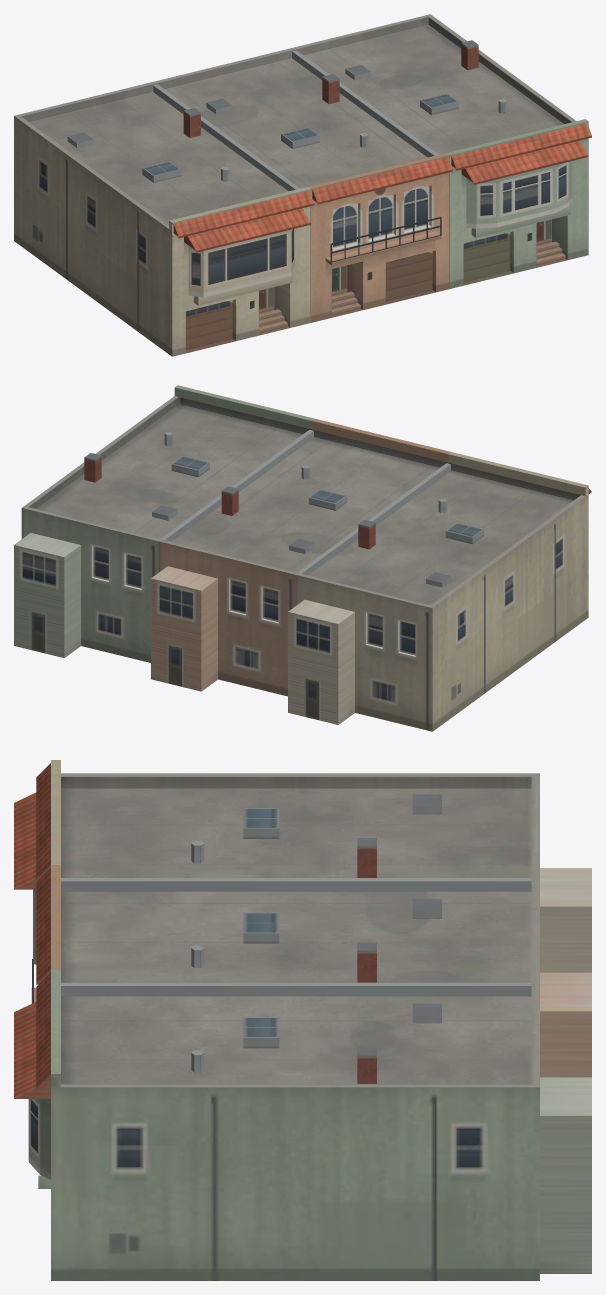
Rendered from sf_victorian_e.glb.
3 views of the same model, one above another, from view 1: azimuth 30°, elevation 25°; view 2: azimuth 150°, elevation 25°; view 3: azimuth 270°, elevation 25° (orthographic). The views are drawn at different scales.
Visible parts, largest first — view 1: sf_victorian_e; view 2: sf_victorian_e; view 3: sf_victorian_e.
Part boxes in pixels (<box>): sf_victorian_e: <box>14,14,591,356</box>; sf_victorian_e: <box>14,385,591,731</box>; sf_victorian_e: <box>14,760,591,1280</box>.
Size of the model in its own units: 22.8 by 7.35 by 17.74.
Materials: 1 (1 with a texture image).
